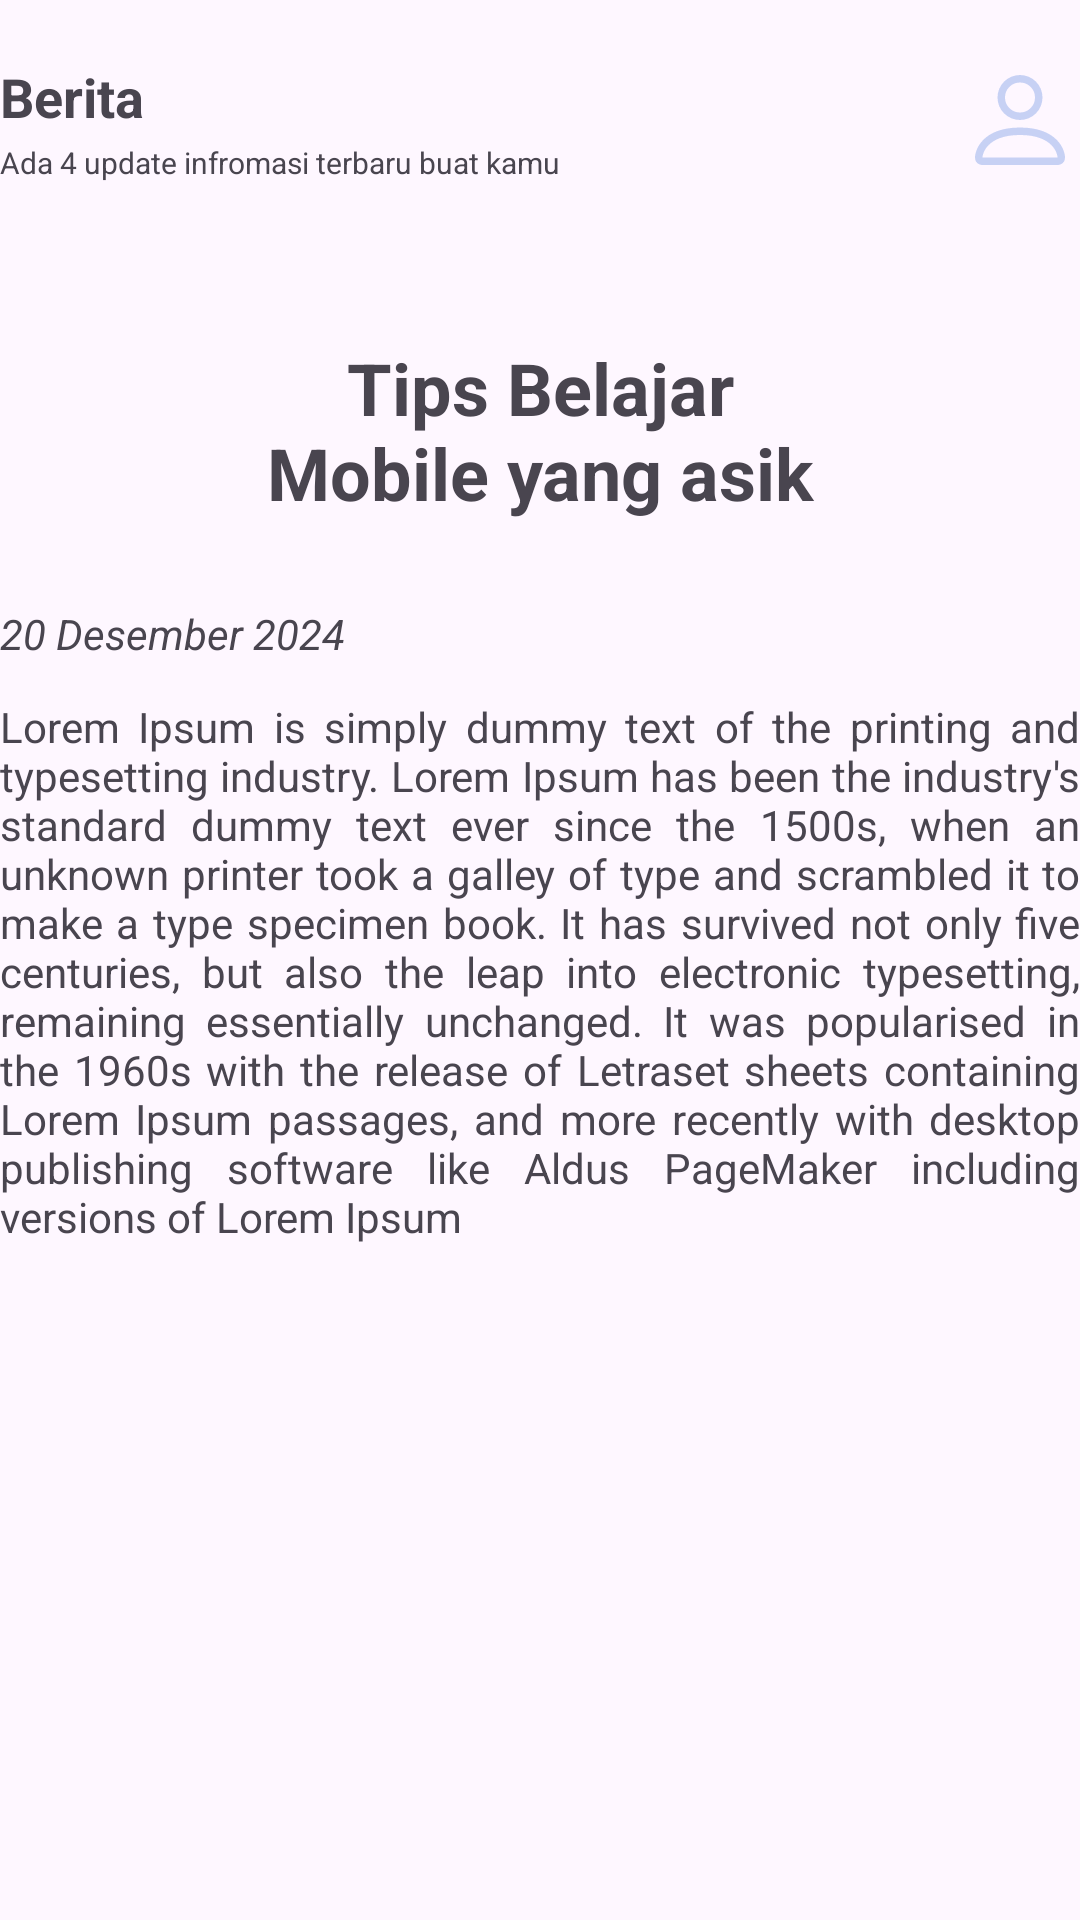

Icon bounding boxes for this 1080px x 1920px phone screenshot, format (x1, y1, x2, y2):
person: (975, 75, 1065, 165)
